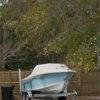Boat: (16, 60, 81, 100)
